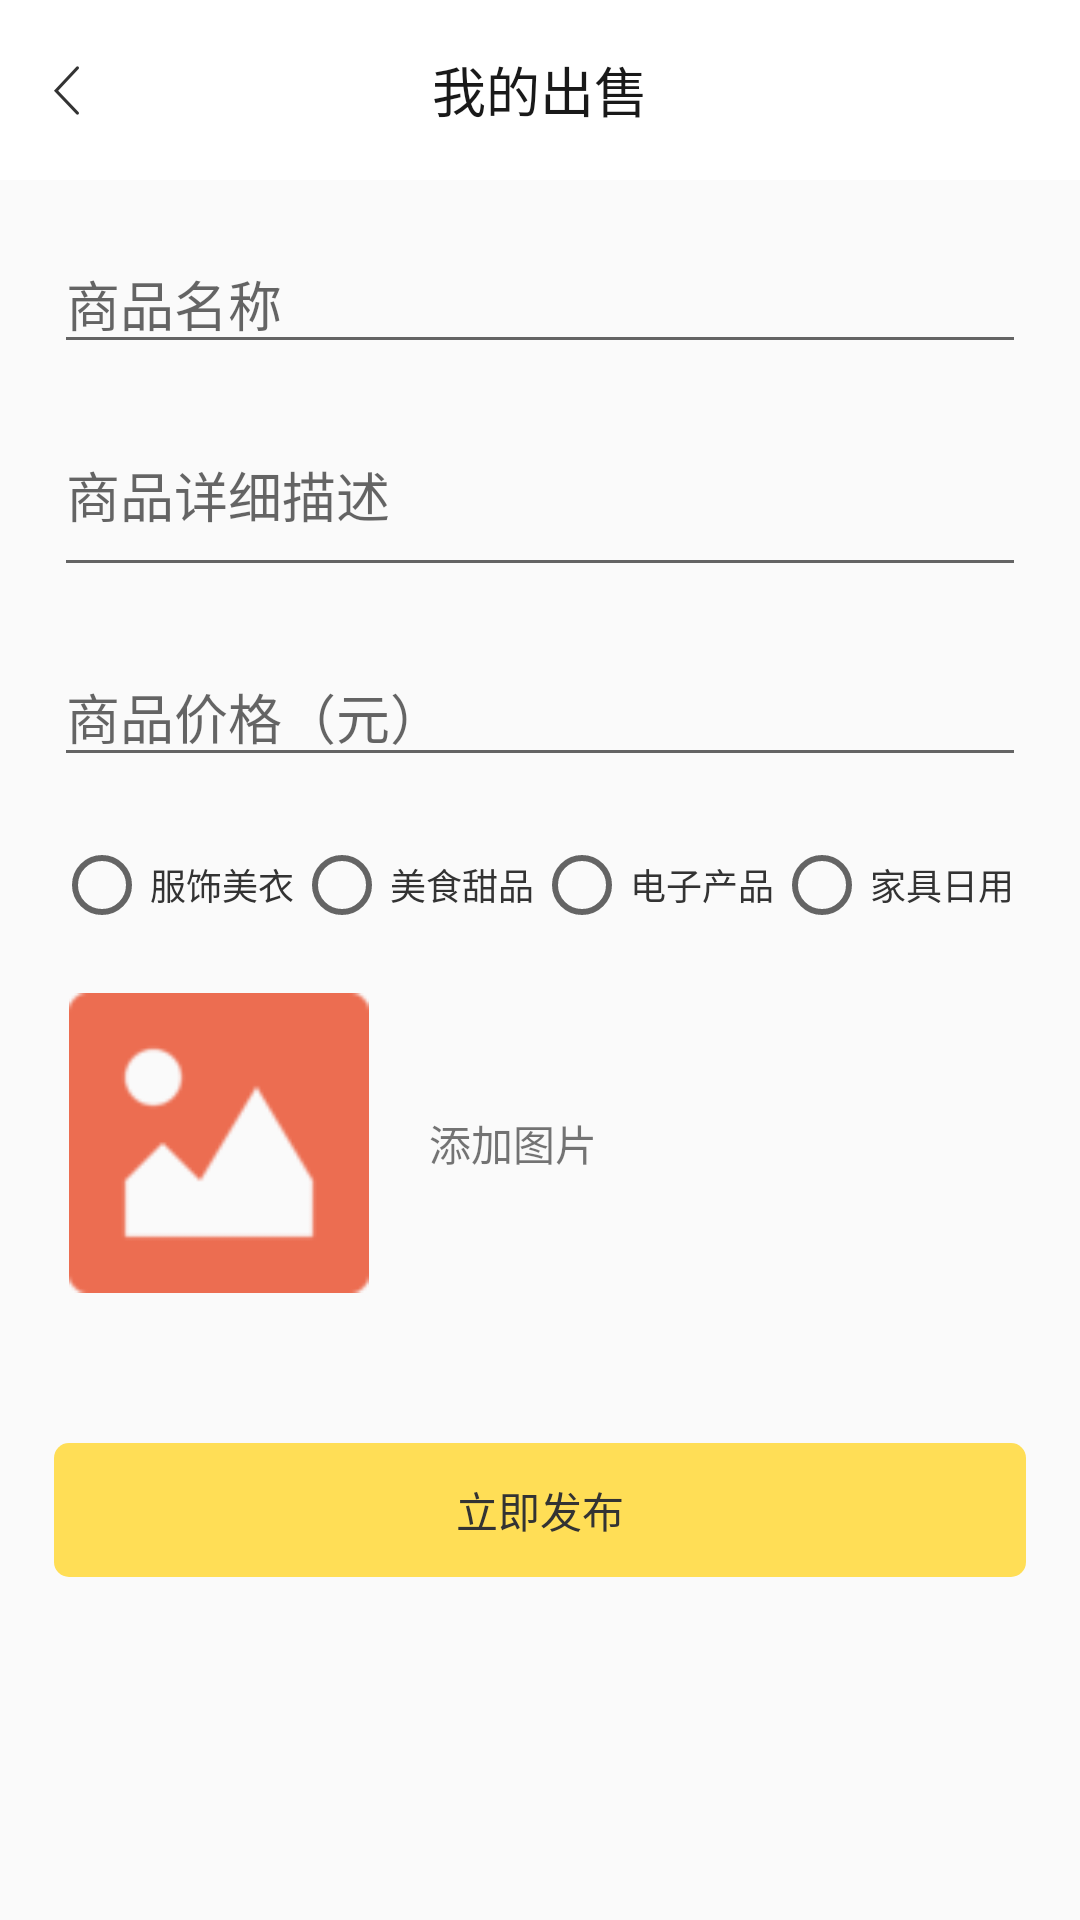

Icons on this 1080px×1920px Android screen, each with its box as detection(x1, y1, x2, y2):
back: detection(54, 66, 79, 115)
